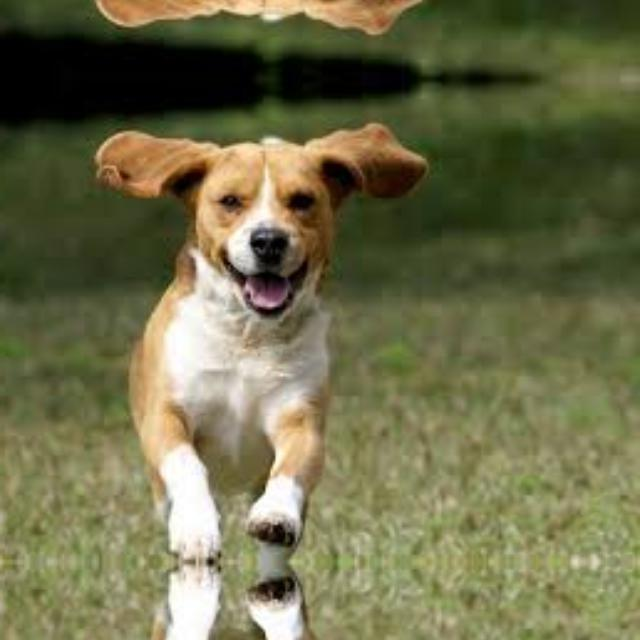dog: (83, 98, 429, 558), (83, 566, 429, 640), (83, 0, 429, 58)
